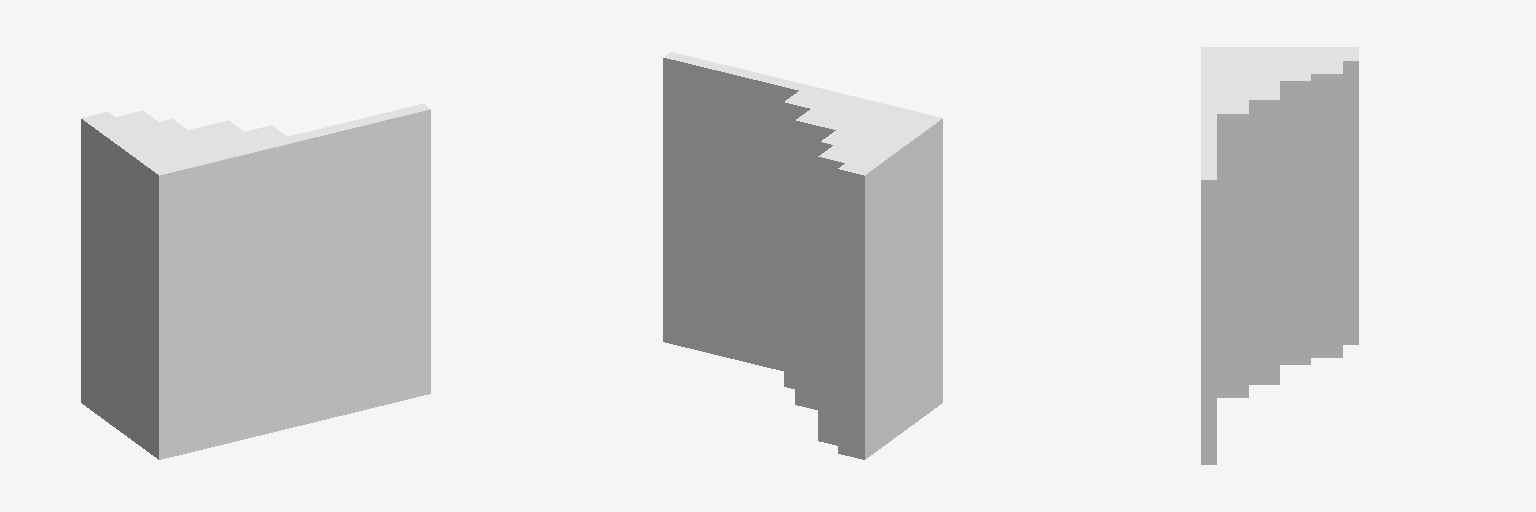
The model's file is MushroomDaddyInterior_01-10.obj.
The picture shows the model from 3 angles: view 1: azimuth 30°, elevation 25°; view 2: azimuth 150°, elevation 25°; view 3: azimuth 270°, elevation 25°; orthographic projection.
Visible parts, largest first — view 1: MushroomDaddyInterior_01-10; view 2: MushroomDaddyInterior_01-10; view 3: MushroomDaddyInterior_01-10.
Part boxes in pixels (bbox=[...]): MushroomDaddyInterior_01-10: bbox=[81, 104, 430, 459]; MushroomDaddyInterior_01-10: bbox=[663, 52, 942, 459]; MushroomDaddyInterior_01-10: bbox=[1201, 47, 1358, 464].
Size of the model in its own units: 40 by 40 by 20.